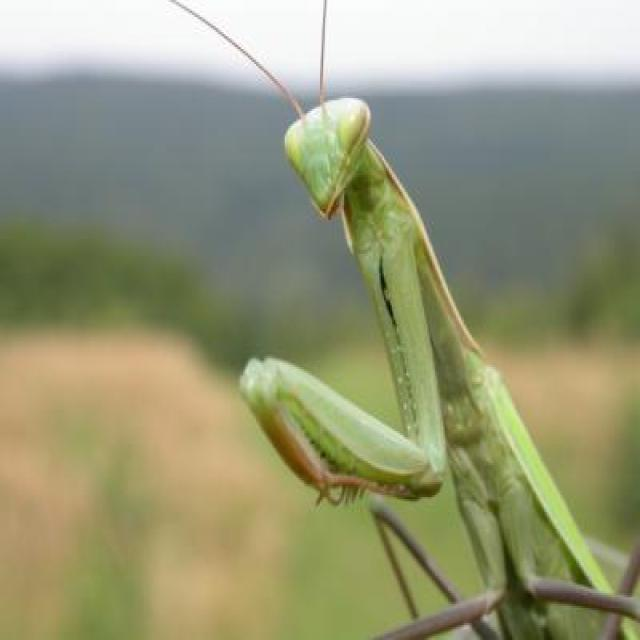antennae: (169, 0, 304, 119), (315, 0, 333, 108)
body: (286, 95, 640, 640)
insect: (158, 0, 639, 640)
legs: (237, 224, 451, 513), (236, 220, 416, 498), (349, 494, 500, 640), (366, 503, 491, 632), (518, 557, 640, 640)
mouthpart: (309, 176, 346, 223)
wings: (470, 363, 640, 640)
